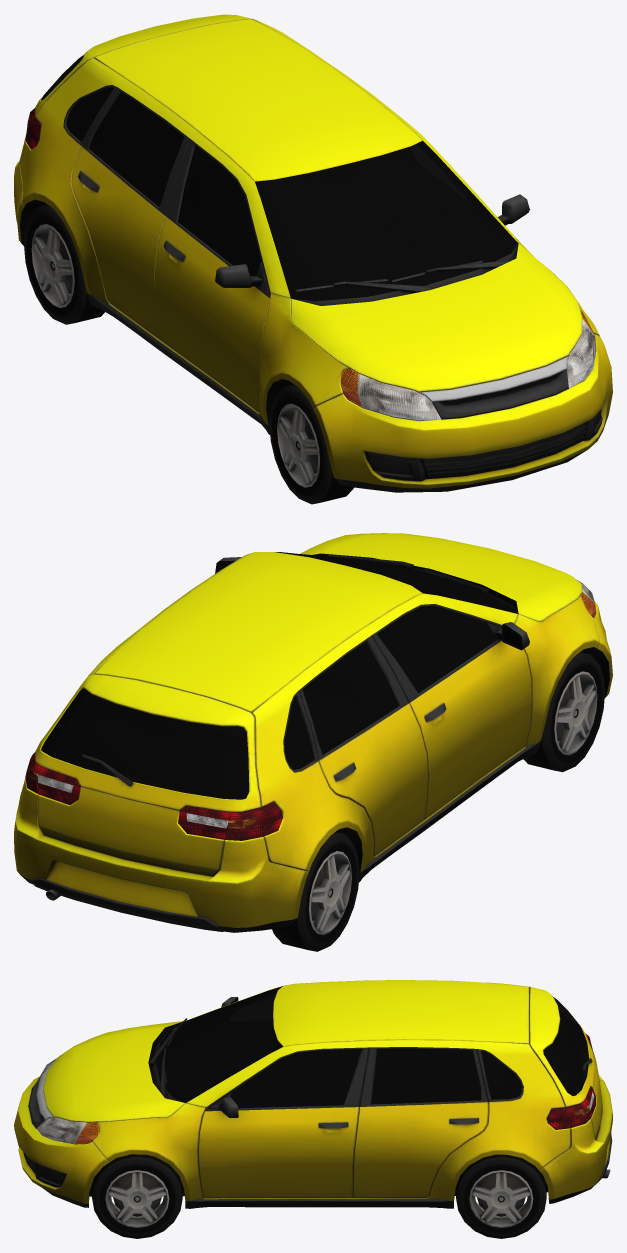
File: pack_hatchback.glb
The picture shows the model from 3 angles, top to bottom: view 1: azimuth 30°, elevation 25°; view 2: azimuth 150°, elevation 25°; view 3: azimuth 270°, elevation 25°; orthographic projection. The views are drawn at different scales.
Visible parts, largest first — view 1: Hatchback Body_Body_0, Hatchback Body_Glass_0, Wheel_B002_Wheek_0, Wheel_B003_Wheek_0, Hatchback Body_Optics_0; view 2: Hatchback Body_Body_0, Hatchback Body_Glass_0, Wheel_B003_Wheek_0, Wheel_B002_Wheek_0, Hatchback Body_Optics_0; view 3: Hatchback Body_Body_0, Hatchback Body_Glass_0, Wheel_B_Wheek_0, Wheel_B001_Wheek_0, Hatchback Body_Optics_0.
Part boxes in pixels (x1,y1,x2,y2): Hatchback Body_Body_0: (14, 14, 612, 492); Hatchback Body_Glass_0: (41, 55, 517, 301); Wheel_B002_Wheek_0: (269, 384, 354, 504); Wheel_B003_Wheek_0: (24, 205, 104, 324); Hatchback Body_Optics_0: (25, 108, 596, 421); Hatchback Body_Body_0: (14, 533, 612, 932); Hatchback Body_Glass_0: (41, 552, 517, 799); Wheel_B003_Wheek_0: (272, 832, 359, 951); Wheel_B002_Wheek_0: (523, 652, 604, 772); Hatchback Body_Optics_0: (25, 580, 596, 840); Hatchback Body_Body_0: (14, 980, 612, 1208); Hatchback Body_Glass_0: (156, 986, 589, 1108); Wheel_B_Wheek_0: (92, 1154, 182, 1238); Wheel_B001_Wheek_0: (456, 1154, 546, 1238); Hatchback Body_Optics_0: (37, 1033, 595, 1144).
Size of the model in its own units: 1.74 by 1.35 by 3.96.
Materials: 4 (3 with a texture image).
